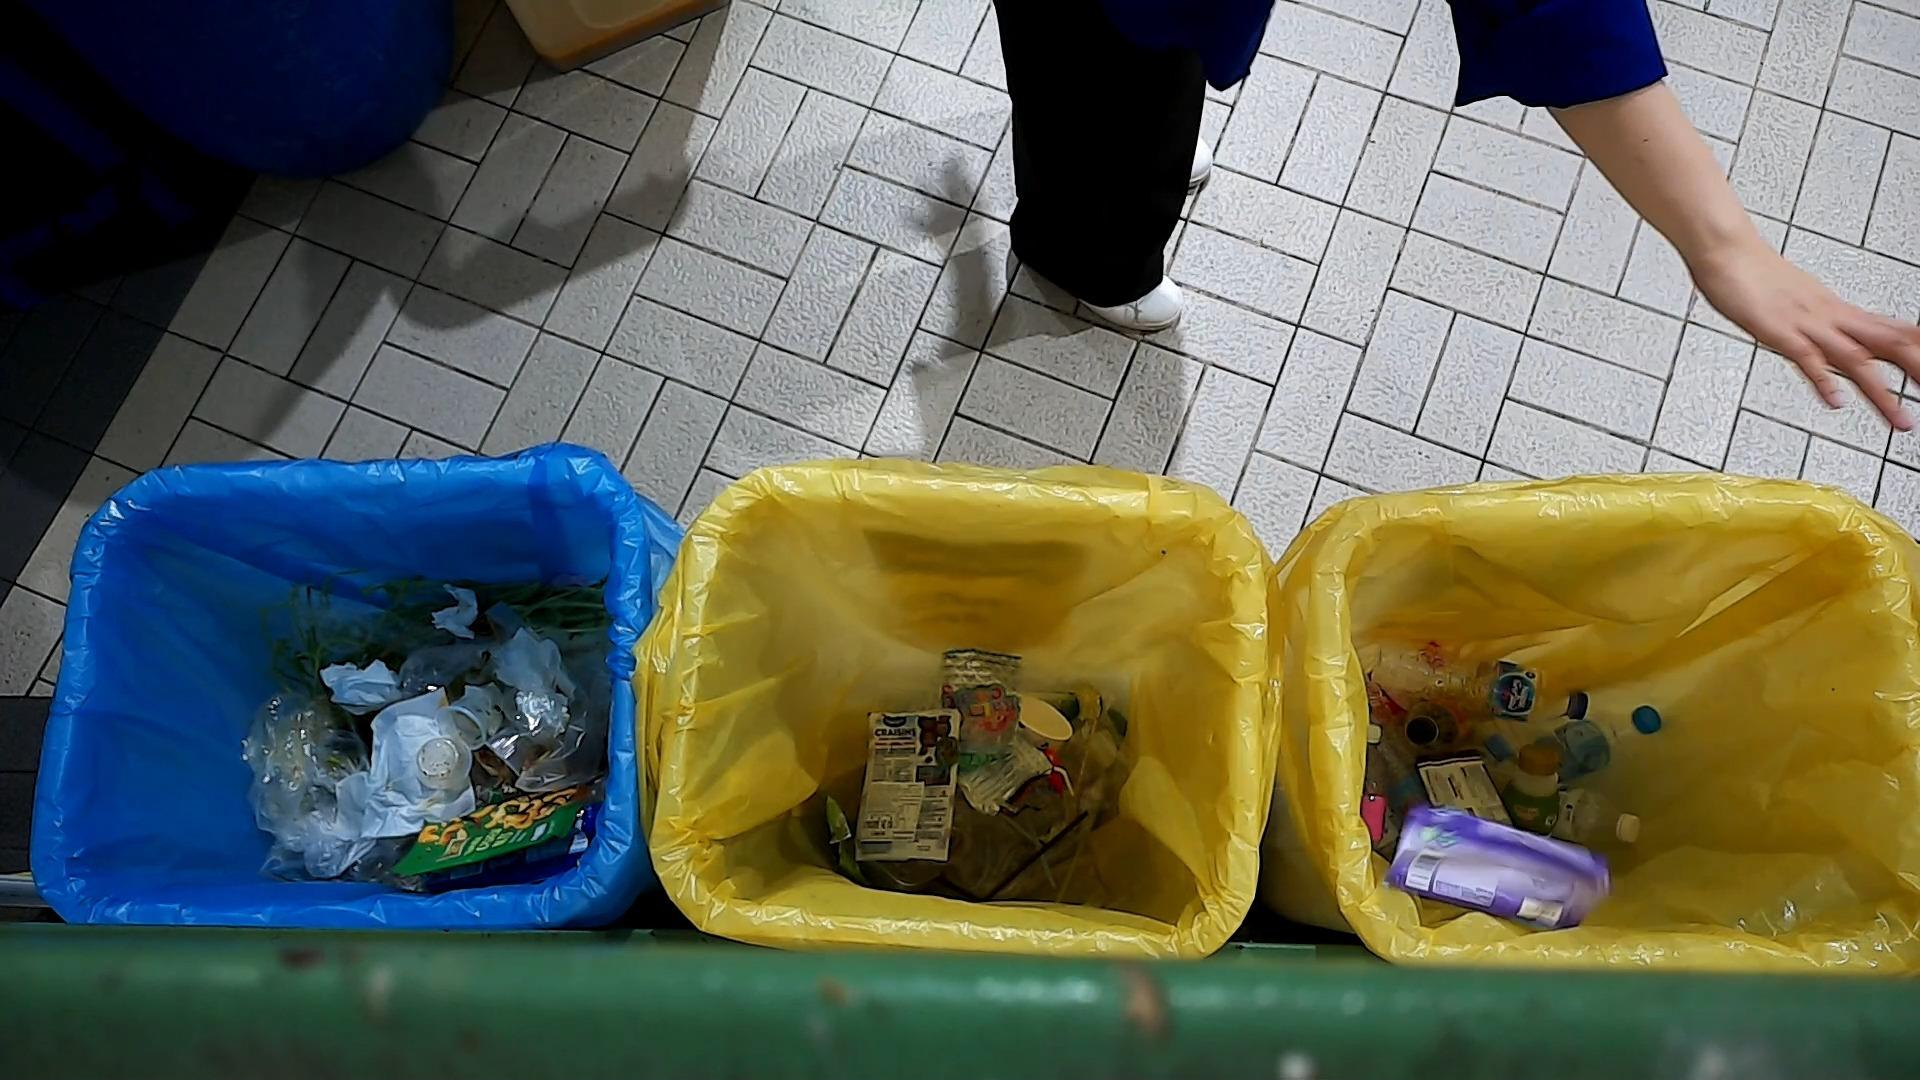food container: (434, 692, 497, 752), (414, 736, 473, 790)
plastic bag: (232, 692, 344, 860)
plastic bottle: (1374, 637, 1592, 731), (1535, 696, 1664, 781), (1506, 744, 1567, 844), (1404, 698, 1474, 754)
snack packaging: (1374, 810, 1607, 930), (851, 707, 969, 873), (393, 785, 587, 886), (936, 644, 1033, 775), (1420, 754, 1527, 829)
straw: (978, 804, 1089, 902)
tissue paper: (336, 686, 472, 835), (488, 626, 572, 698), (315, 655, 402, 716), (427, 582, 480, 644)
